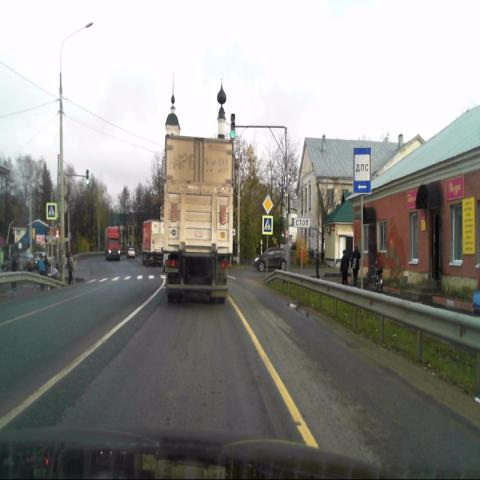7_12: (353, 146, 371, 192)
